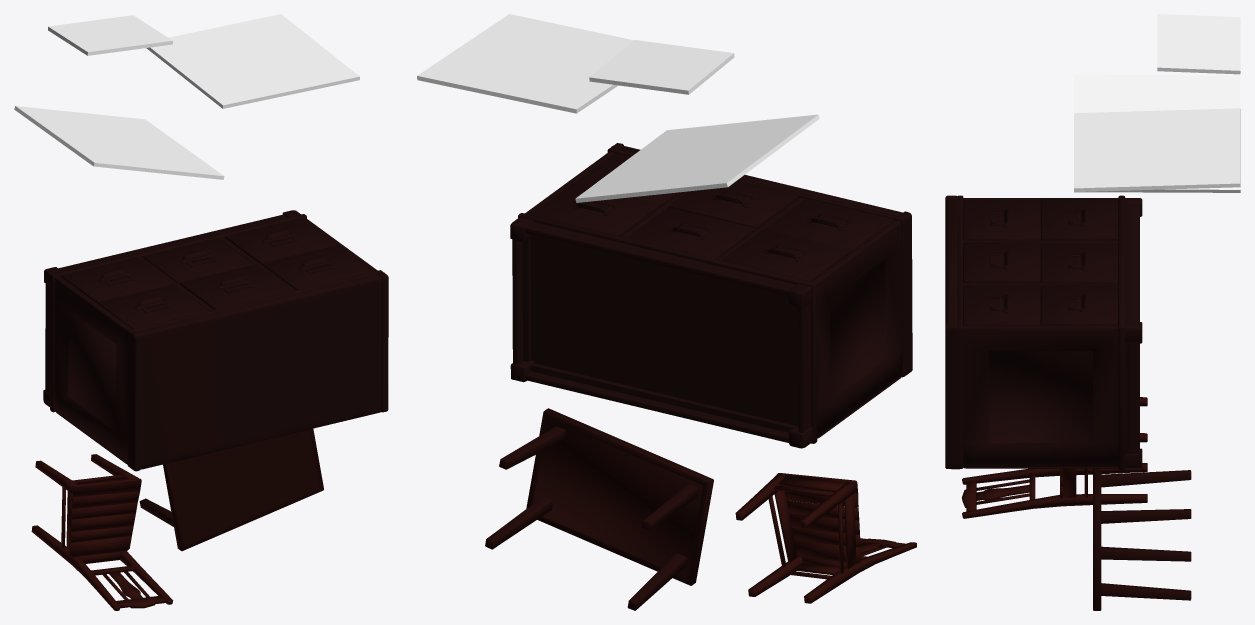
The picture shows the model from 3 angles, left to right: view 1: azimuth 30°, elevation 25°; view 2: azimuth 150°, elevation 25°; view 3: azimuth 270°, elevation 25°; orthographic projection. The views are drawn at different scales.
Visible parts, largest first — view 1: diffuse_cabinet_01, diffuse_table_02, glass_table_01, diffuse_chair_03, glass_table_03, glass_partition_02; view 2: diffuse_cabinet_01, diffuse_table_02, glass_table_01, diffuse_chair_03, glass_table_03, glass_partition_02; view 3: diffuse_cabinet_01, glass_table_01, glass_table_03, diffuse_table_02, diffuse_chair_03, glass_partition_02.
Boxes of the visible parts, x1,y1,x2,y2 form: diffuse_cabinet_01: (43, 210, 388, 471); diffuse_table_02: (139, 428, 323, 551); glass_table_01: (146, 14, 359, 108); diffuse_chair_03: (31, 454, 173, 610); glass_table_03: (14, 106, 224, 179); glass_partition_02: (48, 15, 172, 55); diffuse_cabinet_01: (510, 143, 912, 448); diffuse_table_02: (485, 408, 713, 610); glass_table_01: (417, 14, 633, 113); diffuse_chair_03: (735, 473, 916, 603); glass_table_03: (575, 114, 819, 202); glass_partition_02: (589, 40, 734, 94); diffuse_cabinet_01: (945, 195, 1142, 470); glass_table_01: (1074, 108, 1240, 191); glass_table_03: (1074, 74, 1240, 192); diffuse_table_02: (1093, 468, 1191, 610); diffuse_chair_03: (962, 397, 1147, 518); glass_partition_02: (1157, 14, 1240, 74).
Bounding box in the file's own units: 174 × 275 × 142.
